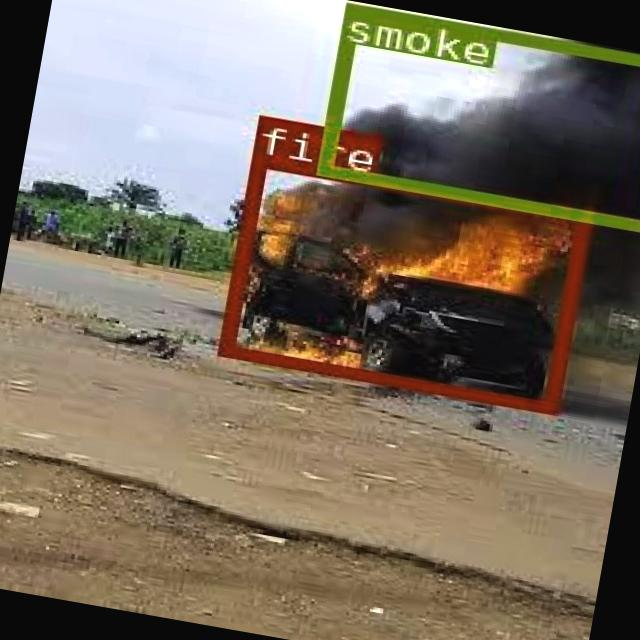fire: (216, 152, 588, 410)
smoke: (315, 0, 640, 229)
